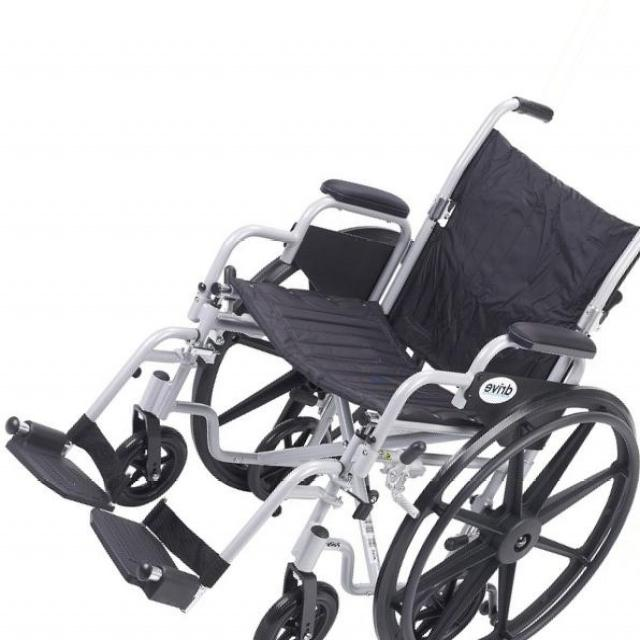wheelchair: (3, 84, 639, 640)
